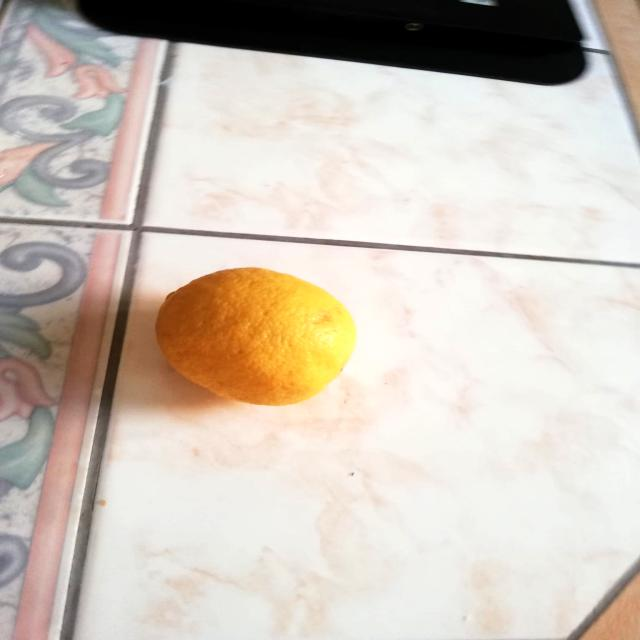lemon: (144, 260, 368, 410)
